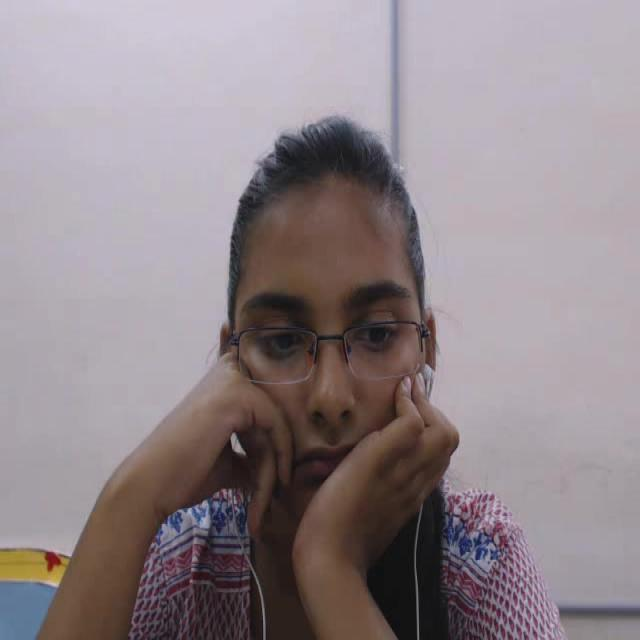Bored: (192, 78, 548, 536)
